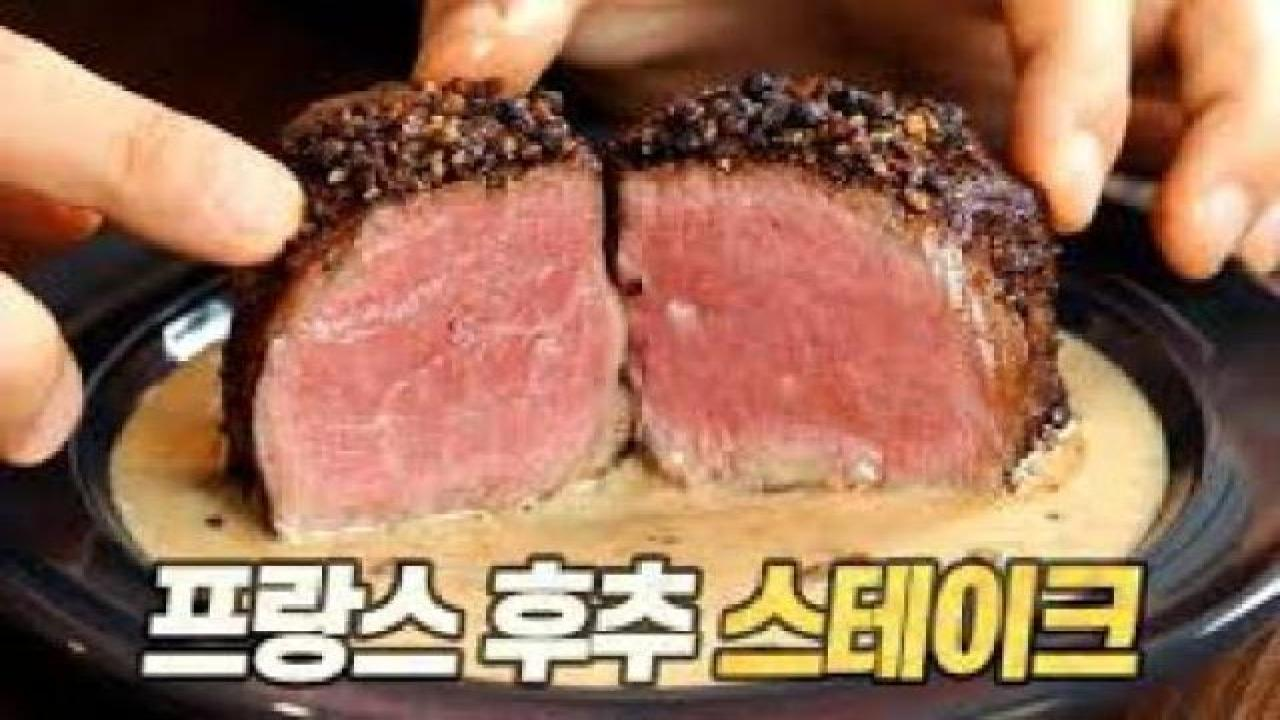raw: (569, 144, 1077, 494), (297, 141, 612, 538)
